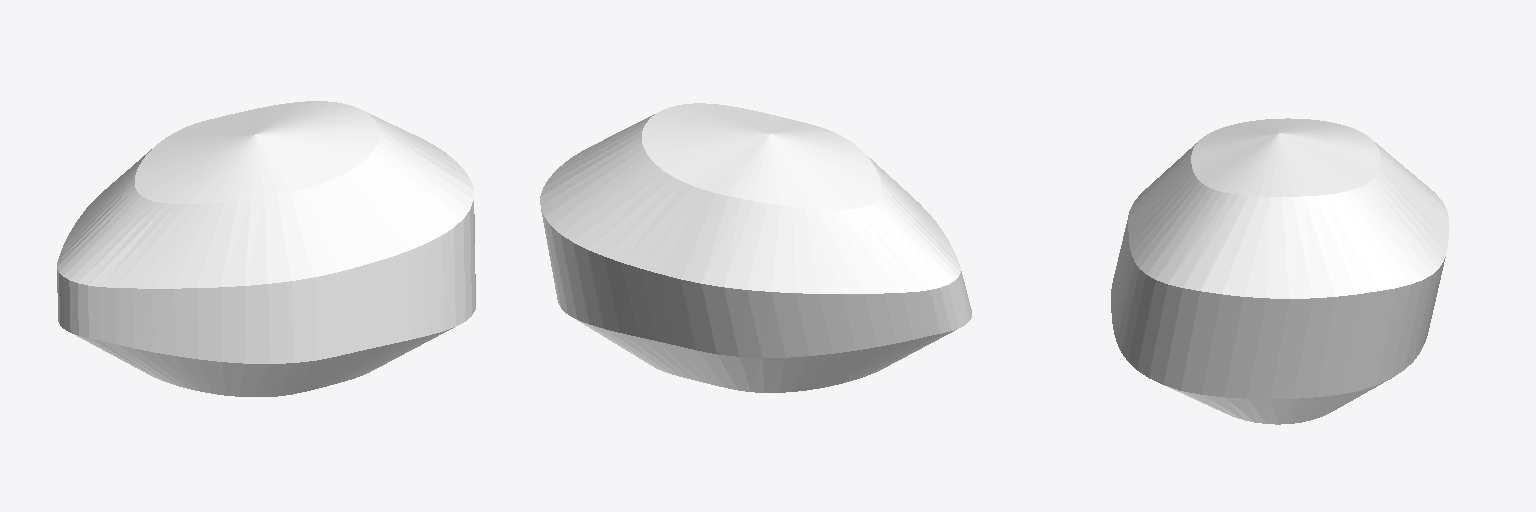
Rendered from Stone.obj.
3 views of the same model, side by side, from view 1: azimuth 30°, elevation 25°; view 2: azimuth 150°, elevation 25°; view 3: azimuth 270°, elevation 25° (orthographic).
Parts seen in each view (by area): view 1: 000_Sphere; view 2: 000_Sphere; view 3: 000_Sphere.
Boxes of the visible parts, <box> form: 000_Sphere: <box>57,101,475,396</box>; 000_Sphere: <box>540,103,971,392</box>; 000_Sphere: <box>1111,118,1448,424</box>.
Bounding box in the file's own units: 11 × 6.6 × 8.26.